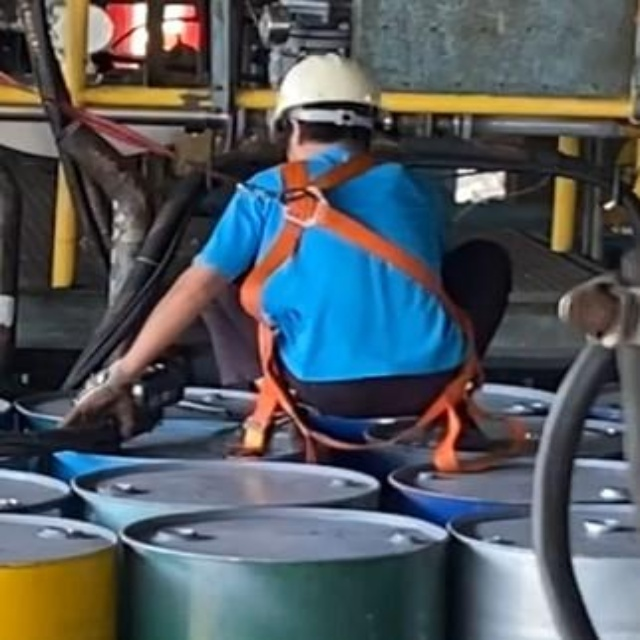Arnes_seguridad: (237, 154, 472, 446)
